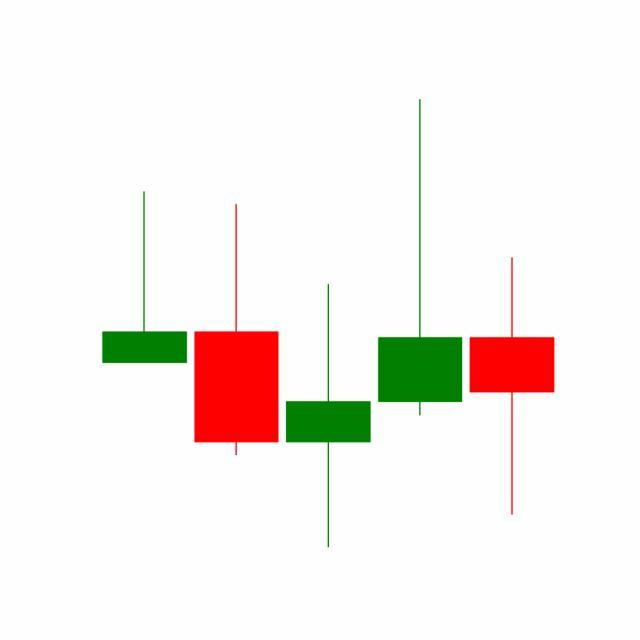Spinning Top: (466, 255, 559, 519)
